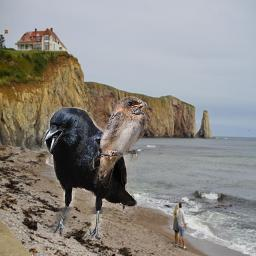Crow: (42, 107, 137, 240)
Swallow: (89, 96, 147, 188)
